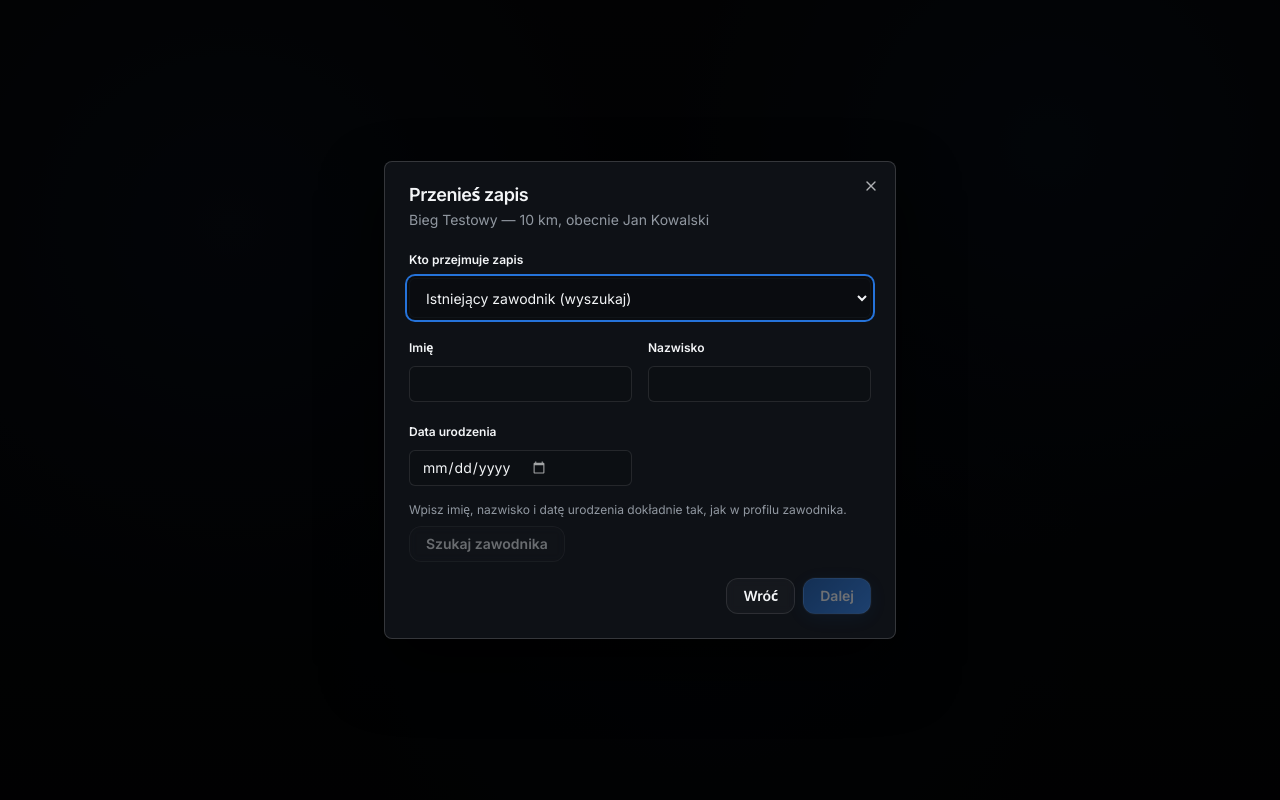
TransferRegistrationDialog › says so when nobody is found
In the field labelled "Imię": [520, 384] box x1=409 y1=366 x2=632 y2=402, type "Ktoś"
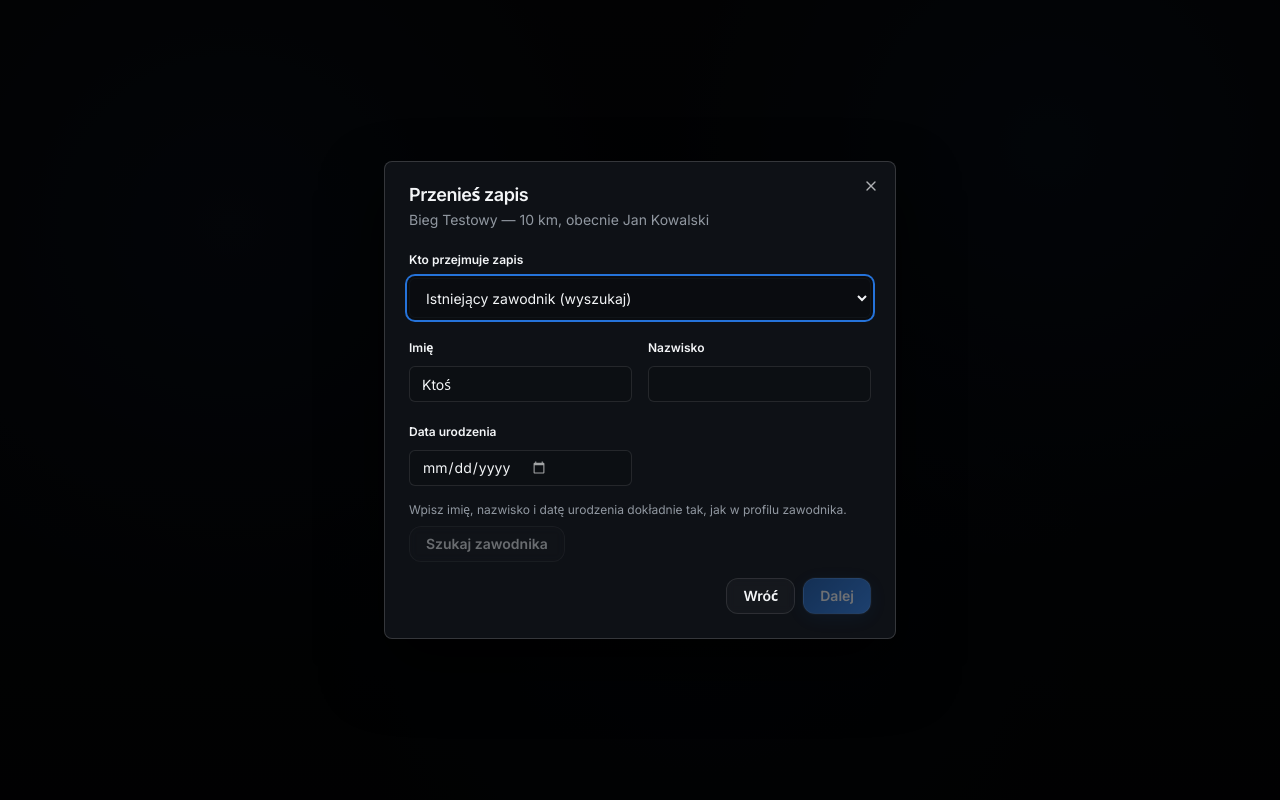
In the field labelled "Nazwisko": [760, 384] box x1=648 y1=366 x2=871 y2=402, type "Nieznany"
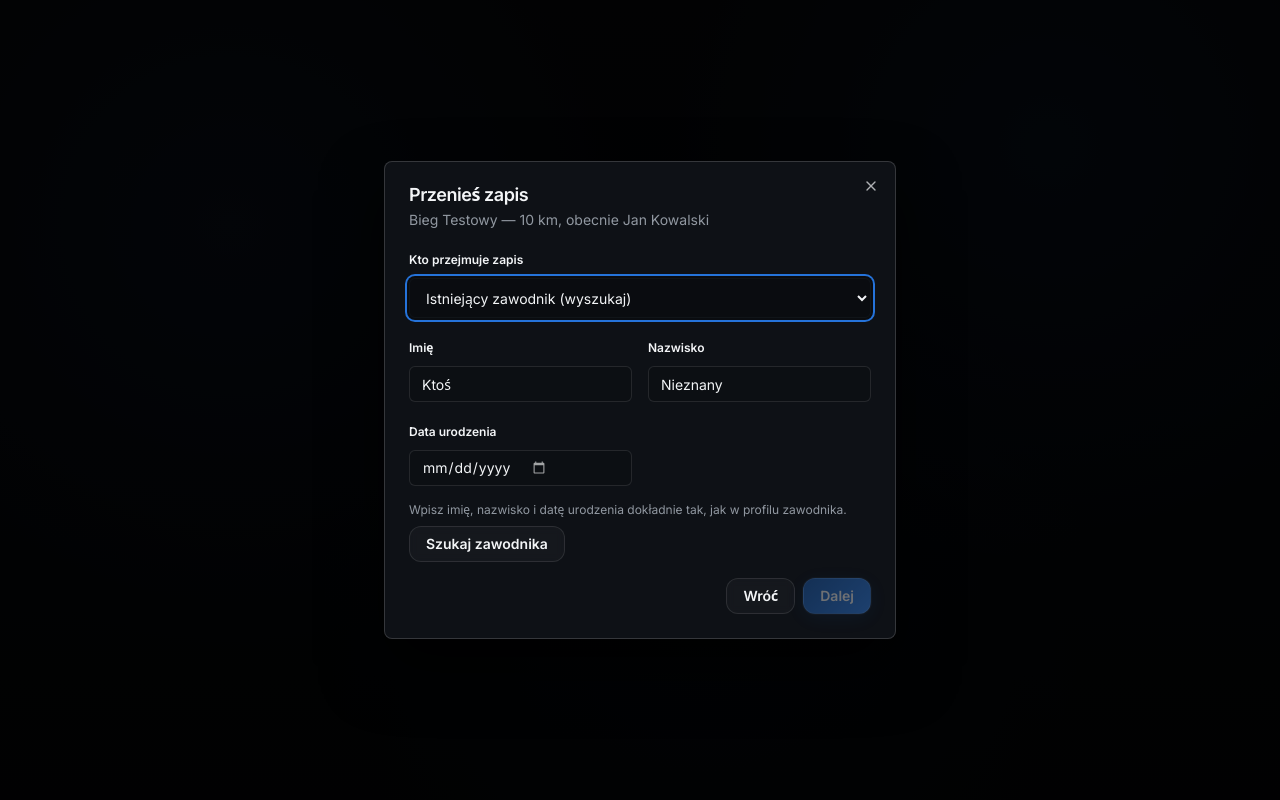
Click the button "Szukaj zawodnika": [487, 544] box x1=409 y1=526 x2=565 y2=562
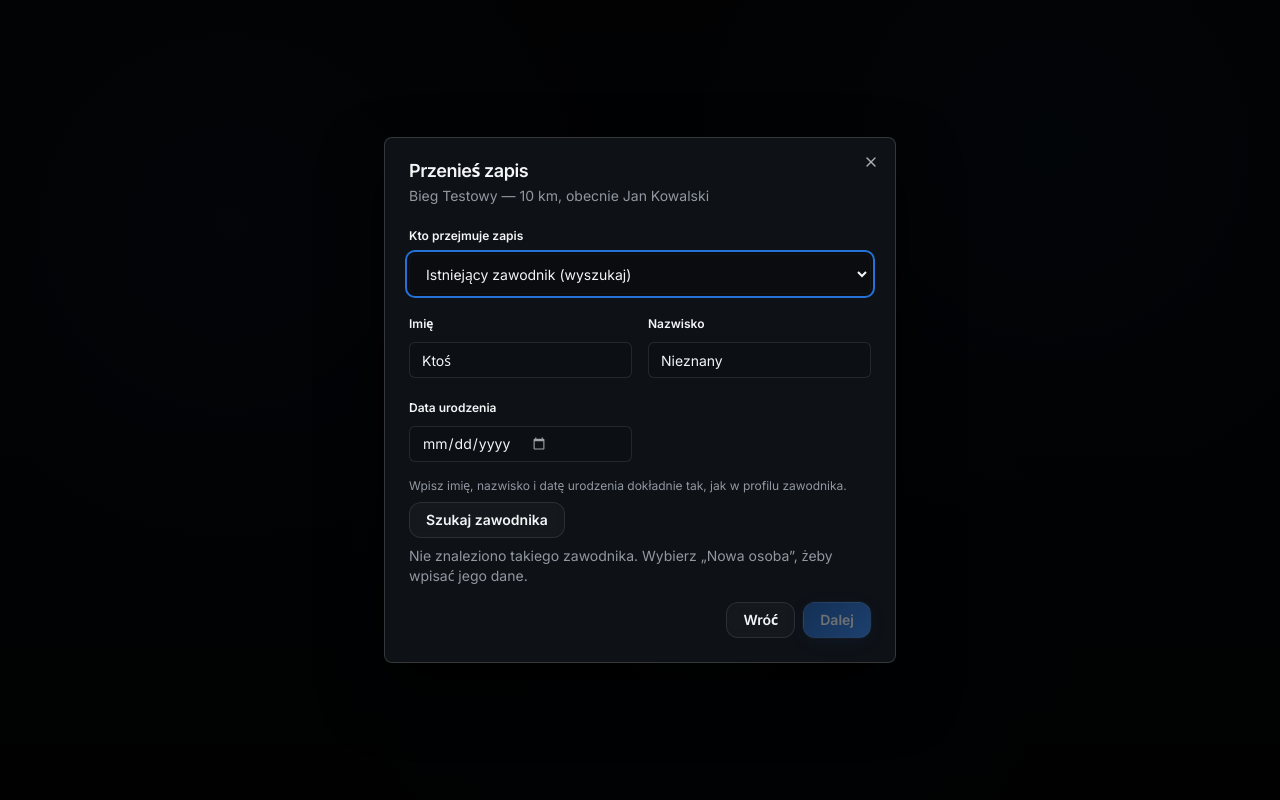
Expected: the button "Dalej" is disabled, x1=803 y1=602 x2=871 y2=638
Expected: the text "Nie znaleziono takiego zawodnika. Wybierz „Nowa osoba”, żeby wpisać jego dane." is shown, x1=409 y1=546 x2=871 y2=586
